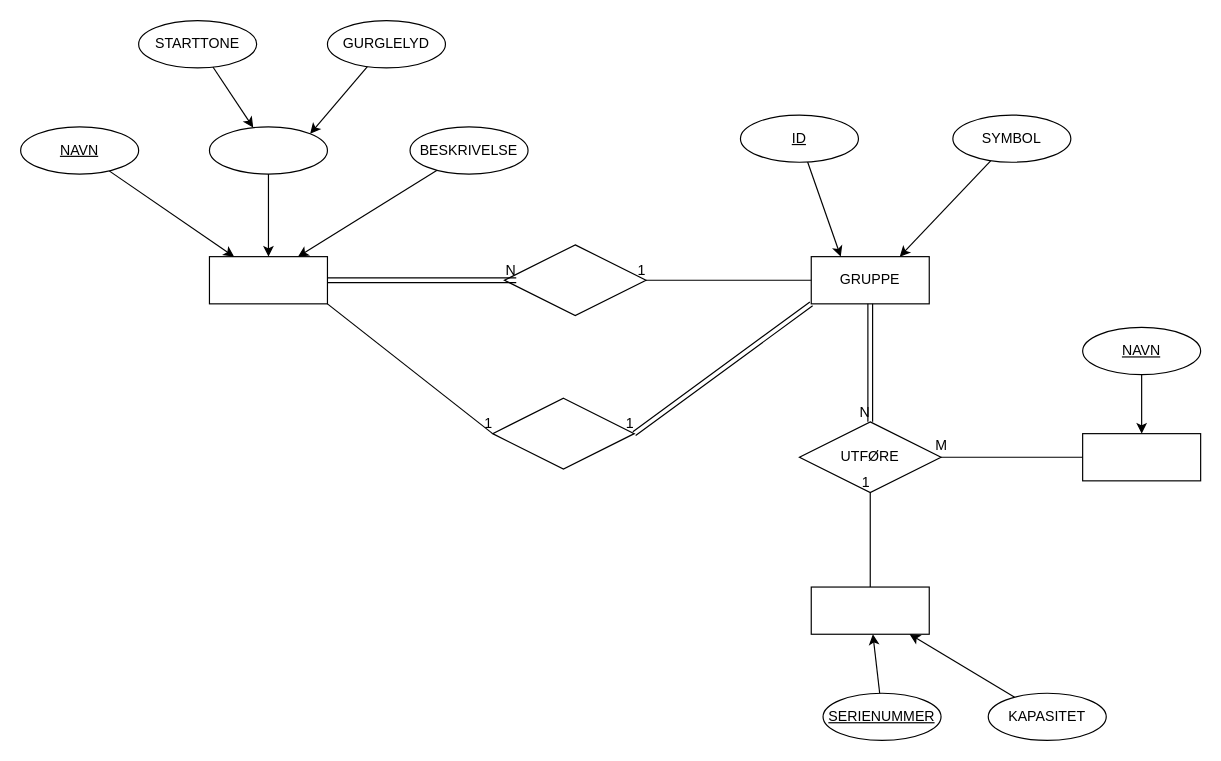
This 1221x761 diagram has some shape labels left out. Here are the shapes that lost their labels. From the top down, the centre of each, then its label:
(267,150): LYD
(267,279): ROMVESEN
(574,280): ORGANISERT I
(562,433): LEDER
(1141,456): FUNKSJON
(869,610): ROMSKIP
